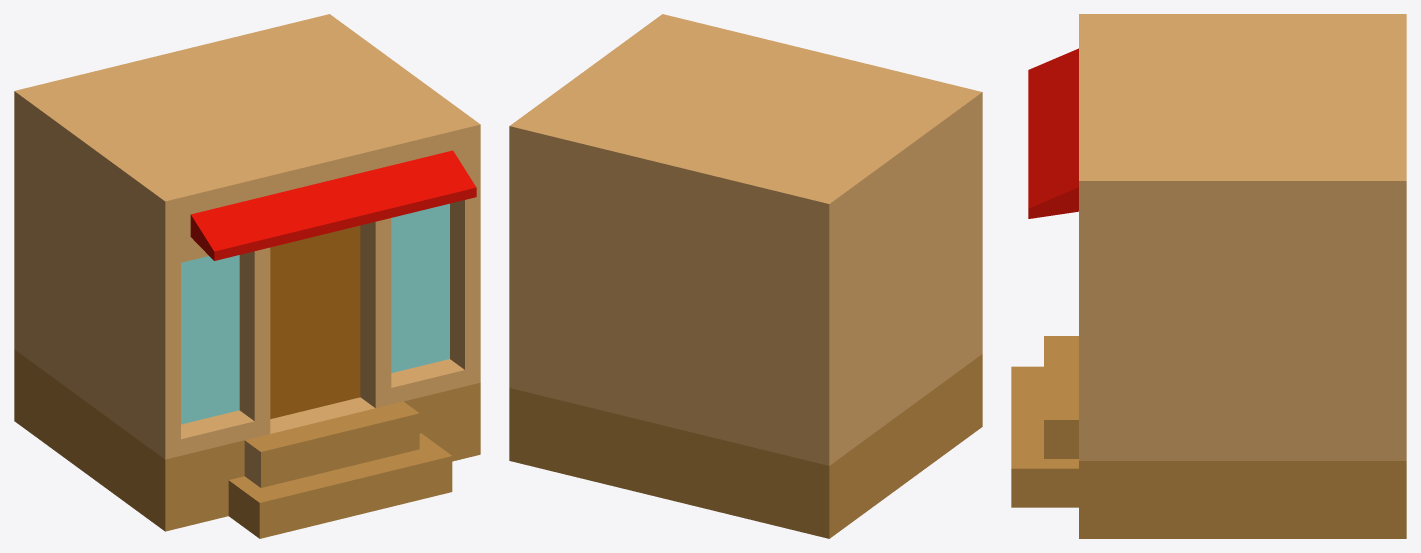
The model's file is Building Base2.fbx.
3 views of the same model, side by side, from view 1: azimuth 30°, elevation 25°; view 2: azimuth 150°, elevation 25°; view 3: azimuth 270°, elevation 25° (orthographic). The views are drawn at different scales.
Parts seen in each view (by area): view 1: base4; view 2: base4; view 3: base4.
Part boxes in pixels (x1=…): base4: x1=14, y1=14, x2=480, y2=538; base4: x1=509, y1=14, x2=982, y2=538; base4: x1=1011, y1=14, x2=1406, y2=538.
Size of the model in its own units: 300 by 300 by 300.
